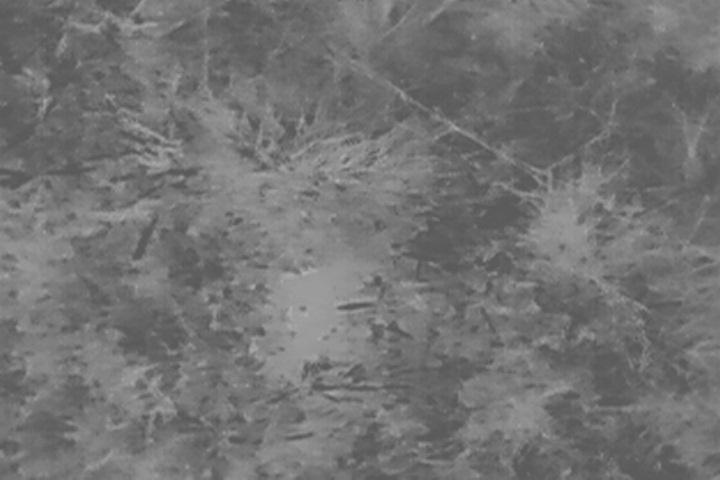landmine: (262, 264, 374, 366)
